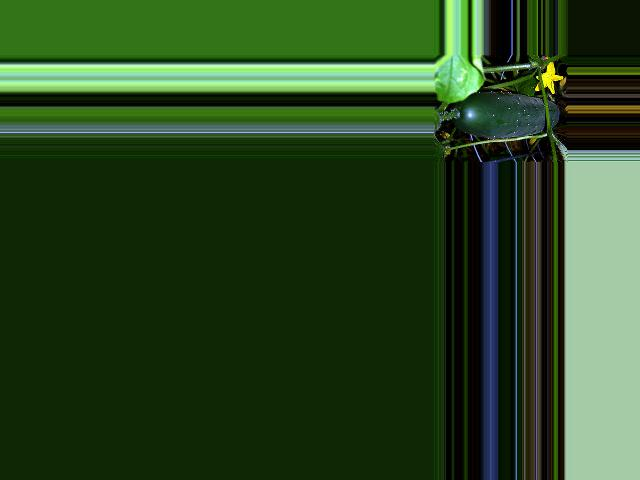cucumber: (449, 92, 558, 138)
